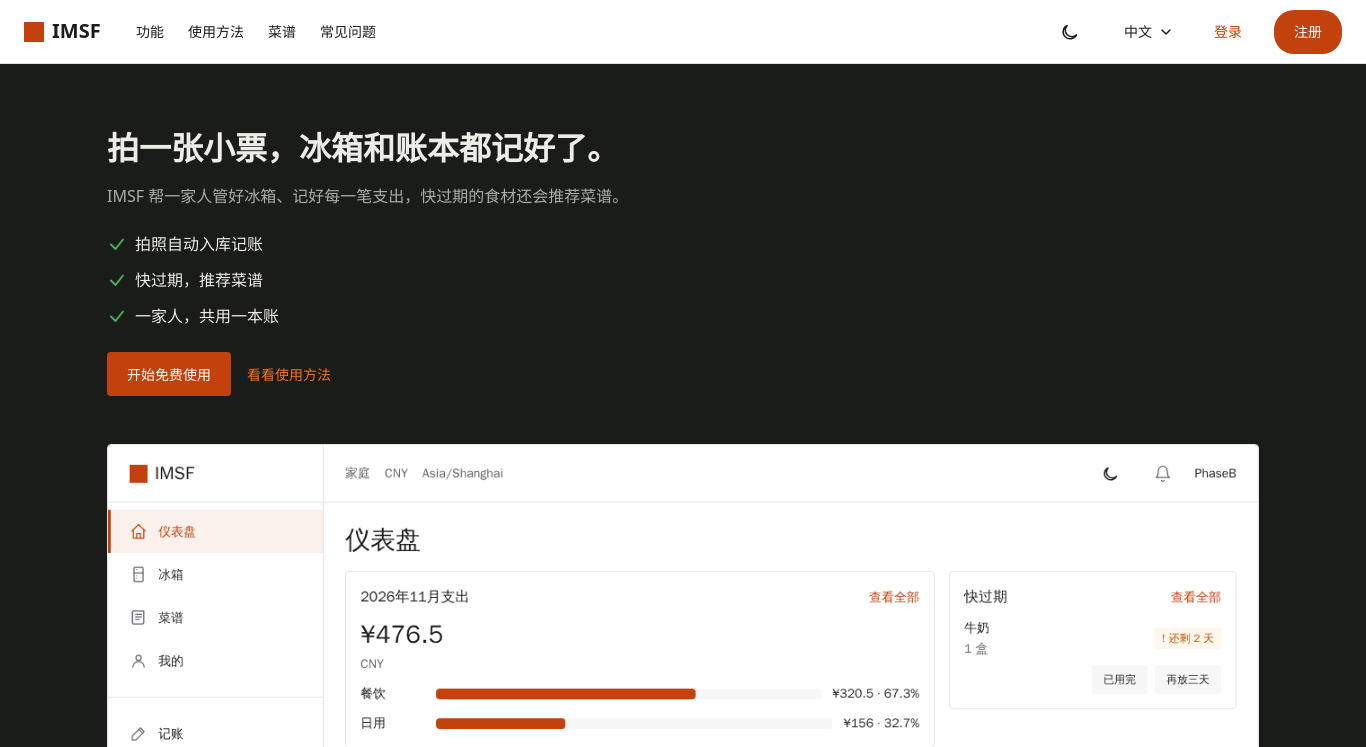
Scenario: language switching › switching to English changes the landing copy on the same route
Click the button with aria-label "语言" at (1149, 32), box [1116,10,1182,54]
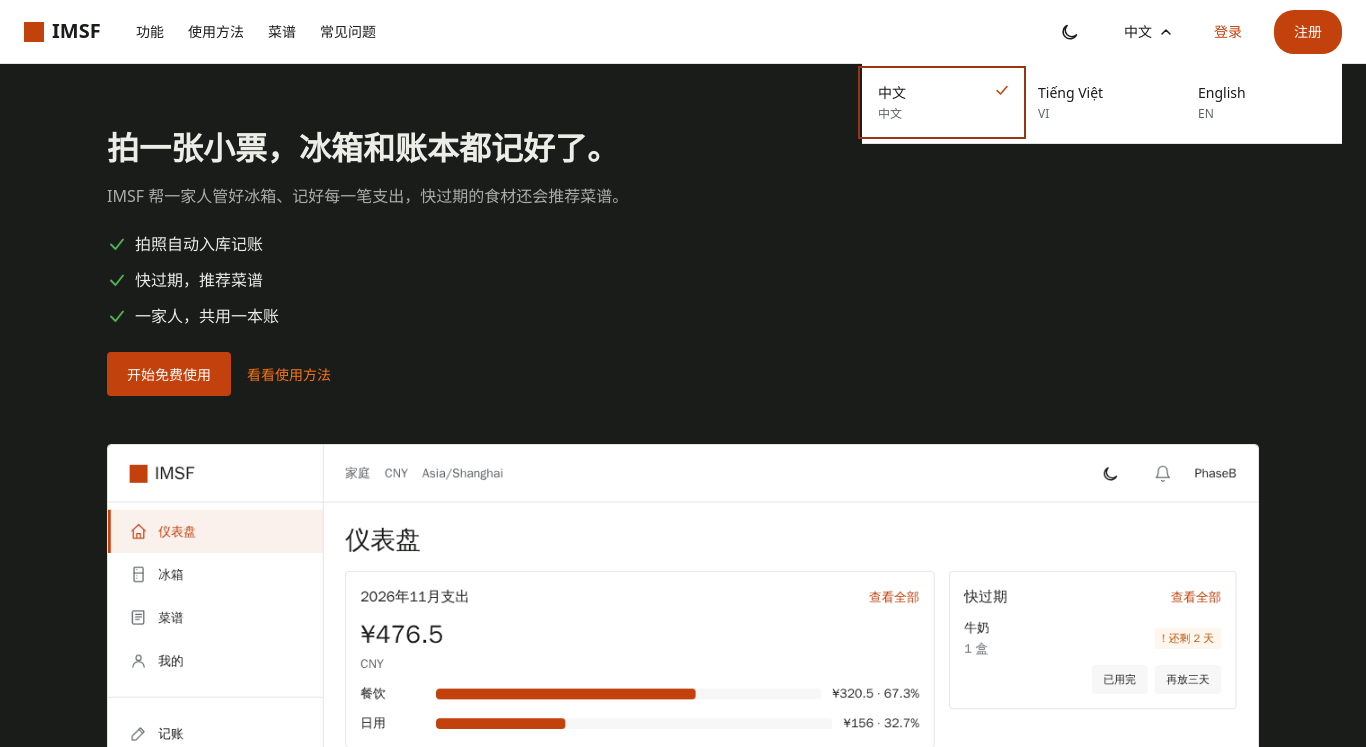
Click the menu item "English EN" at (1262, 102), box [1182,70,1342,135]
(page scrolled)
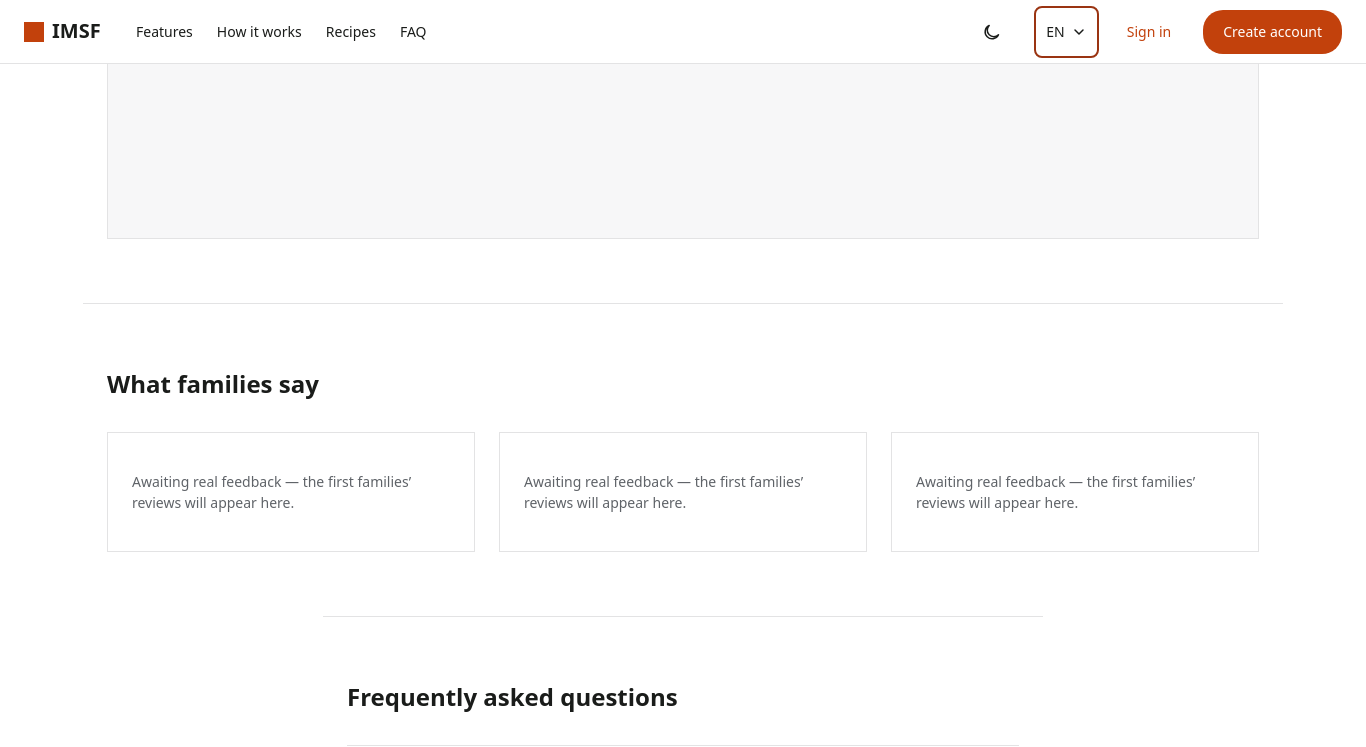
Expected: the text "Awaiting real feedback — the first families’ reviews will appear here." is shown 3 times, [132,471,450,513]; [524,471,842,513]; [916,471,1234,513]
Expected: the heading "What families say" is shown, [107,367,319,400]
